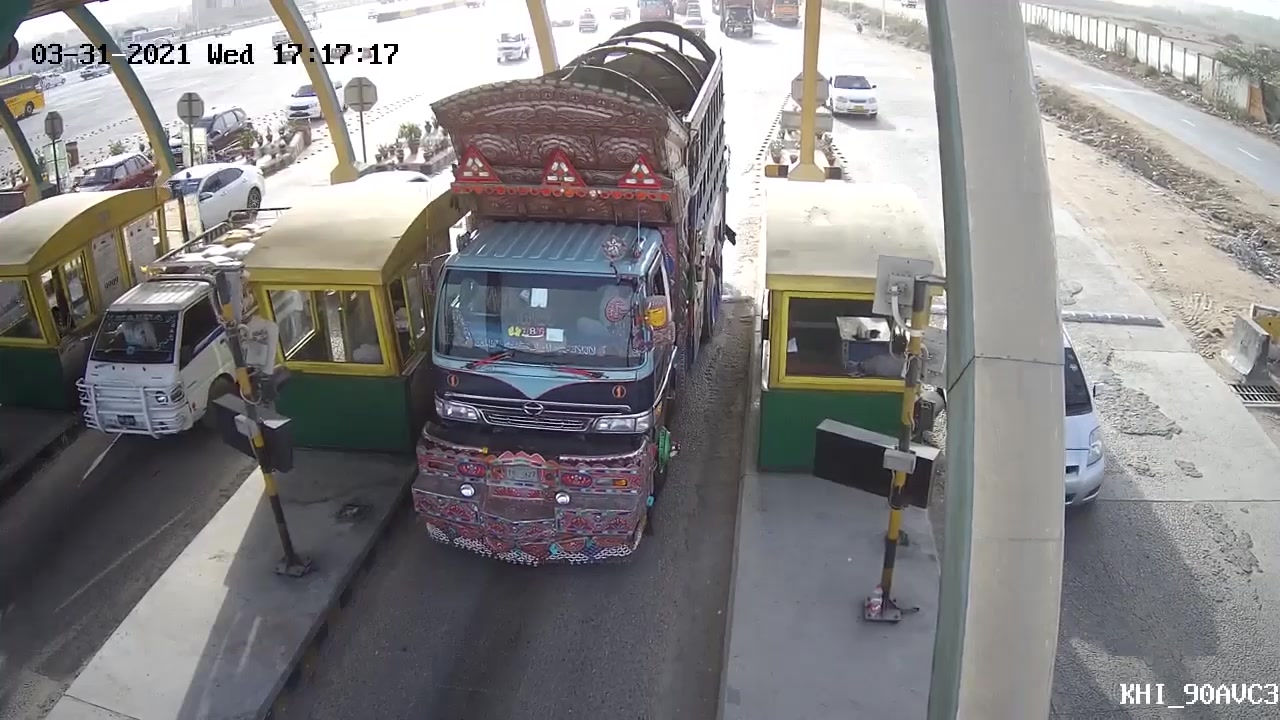F6: (387, 52, 724, 595)
